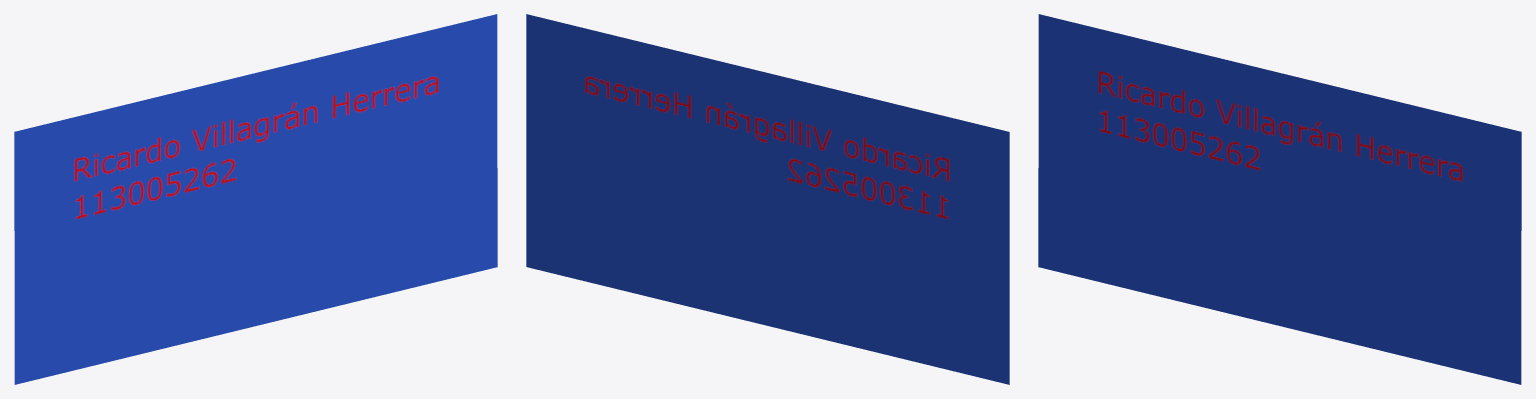
Rendered from plano.obj.
The picture shows the model from 3 angles, left to right: view 1: azimuth 30°, elevation 25°; view 2: azimuth 150°, elevation 25°; view 3: azimuth 330°, elevation 25°; orthographic projection.
Visible parts, largest first — view 1: pPlane1; view 2: pPlane1; view 3: pPlane1.
Boxes of the visible parts, bbox=[...] form: pPlane1: bbox=[14, 14, 497, 384]; pPlane1: bbox=[526, 14, 1009, 384]; pPlane1: bbox=[1038, 14, 1521, 384].
Bounding box in the file's own units: 24.08 × 12.05 × 0.0196.
1 material, 1 textured.
